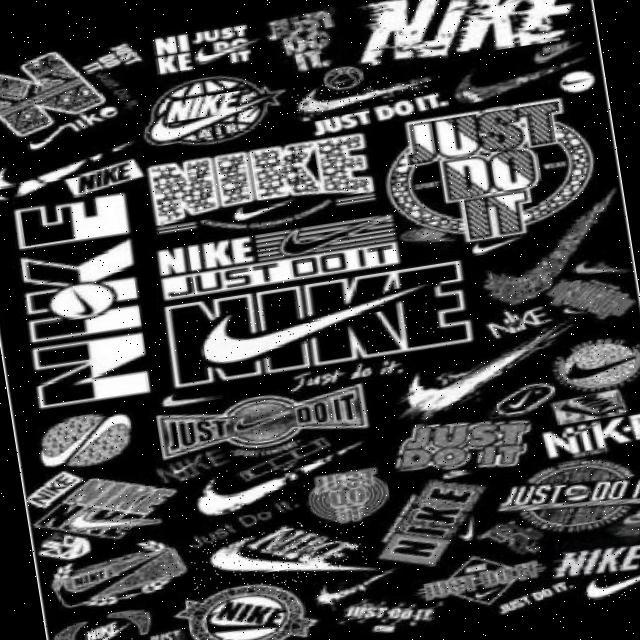Nike: (190, 278, 444, 370), (187, 512, 372, 599), (178, 441, 372, 523), (138, 83, 266, 147), (288, 65, 443, 117), (61, 498, 166, 542), (573, 564, 640, 603), (66, 616, 135, 640)
